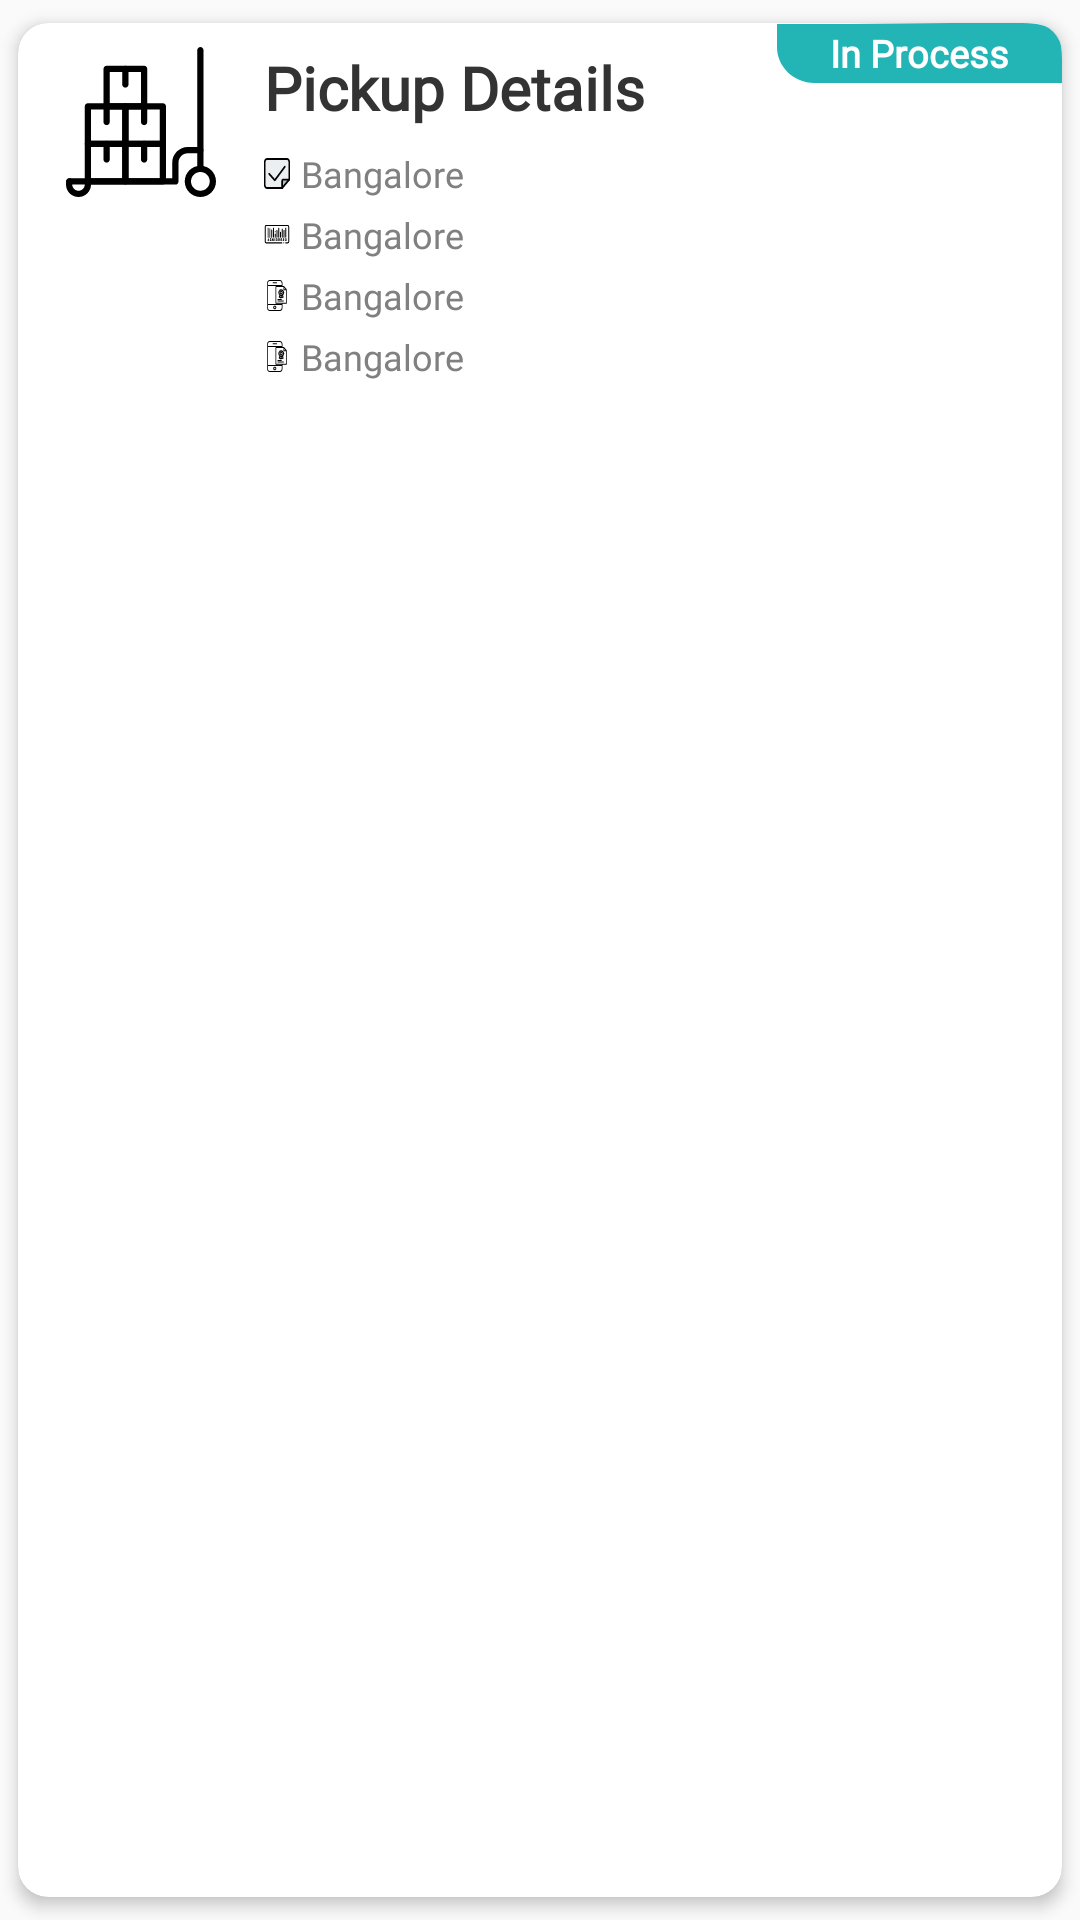

Icon click points for this 1080*1920 phone screenshot, format (x=x, y=y):
cart: (x=141, y=122)
slip: (x=277, y=173)
